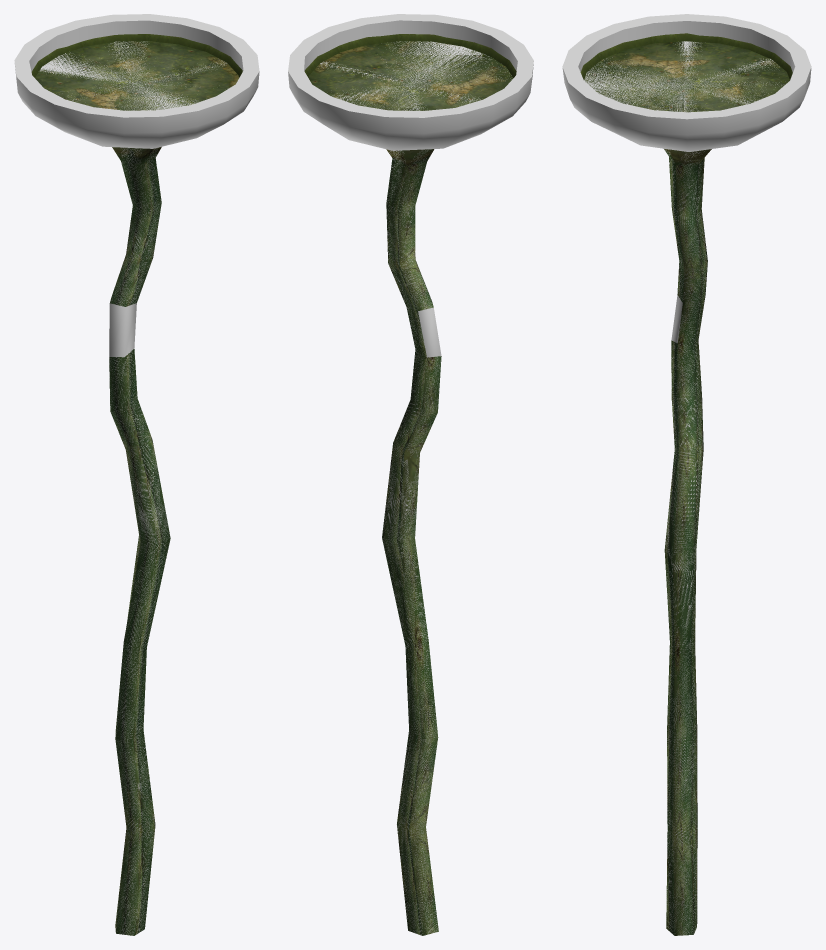
File: LotasPlatform.gltf
3 views of the same model, side by side, from view 1: azimuth 30°, elevation 25°; view 2: azimuth 150°, elevation 25°; view 3: azimuth 270°, elevation 25° (orthographic).
Visible parts, largest first — view 1: LotasPlatformMesh, LotasPlatformColWall, LotasPlatformColFloor; view 2: LotasPlatformMesh, LotasPlatformColWall, LotasPlatformColFloor; view 3: LotasPlatformMesh, LotasPlatformColWall, LotasPlatformColFloor.
Boxes of the visible parts, bbox=[...] form: LotasPlatformMesh: bbox=[31, 34, 242, 935]; LotasPlatformColWall: bbox=[15, 20, 259, 935]; LotasPlatformColFloor: bbox=[14, 14, 259, 117]; LotasPlatformMesh: bbox=[304, 34, 516, 935]; LotasPlatformColWall: bbox=[288, 20, 533, 934]; LotasPlatformColFloor: bbox=[288, 14, 533, 117]; LotasPlatformMesh: bbox=[580, 33, 792, 935]; LotasPlatformColWall: bbox=[562, 21, 811, 935]; LotasPlatformColFloor: bbox=[562, 14, 811, 119].
Bounding box in the file's own units: 7.24 × 27.84 × 7.24.
2 materials, 2 textured.
